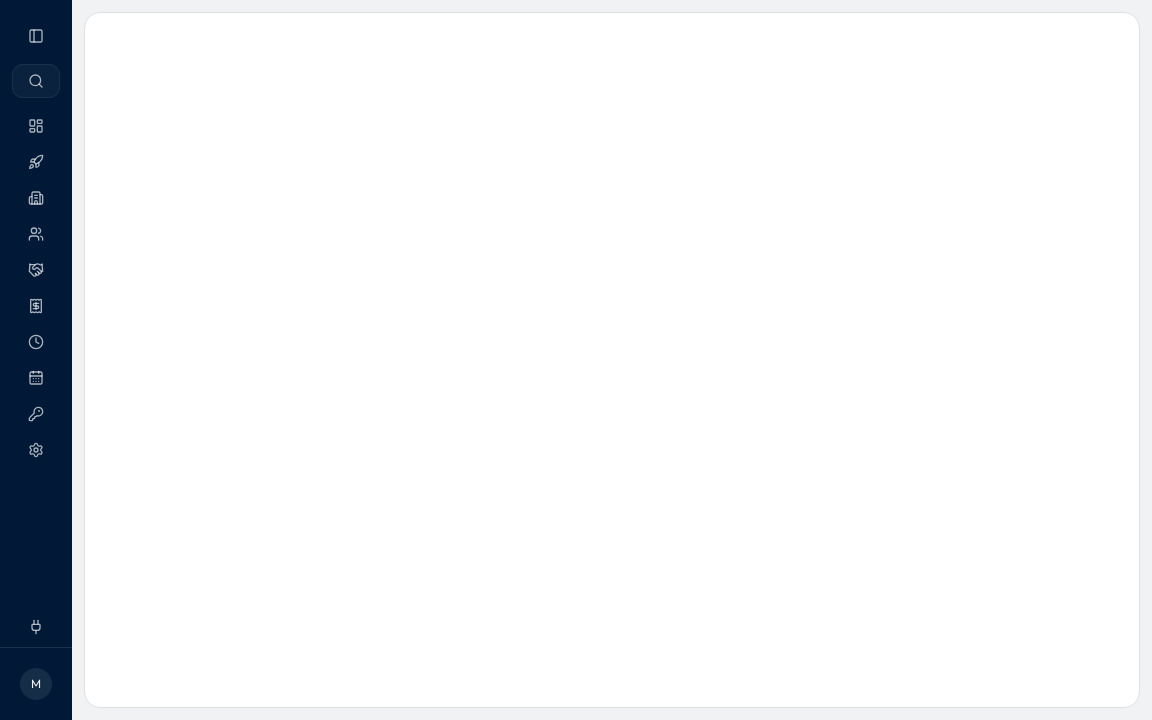
Scenario: AppShell › closes the overlay when the route changes, so it never covers the page you asked for
Click the button named "Espandi il menu" at [36, 36], box [20,20,52,52]
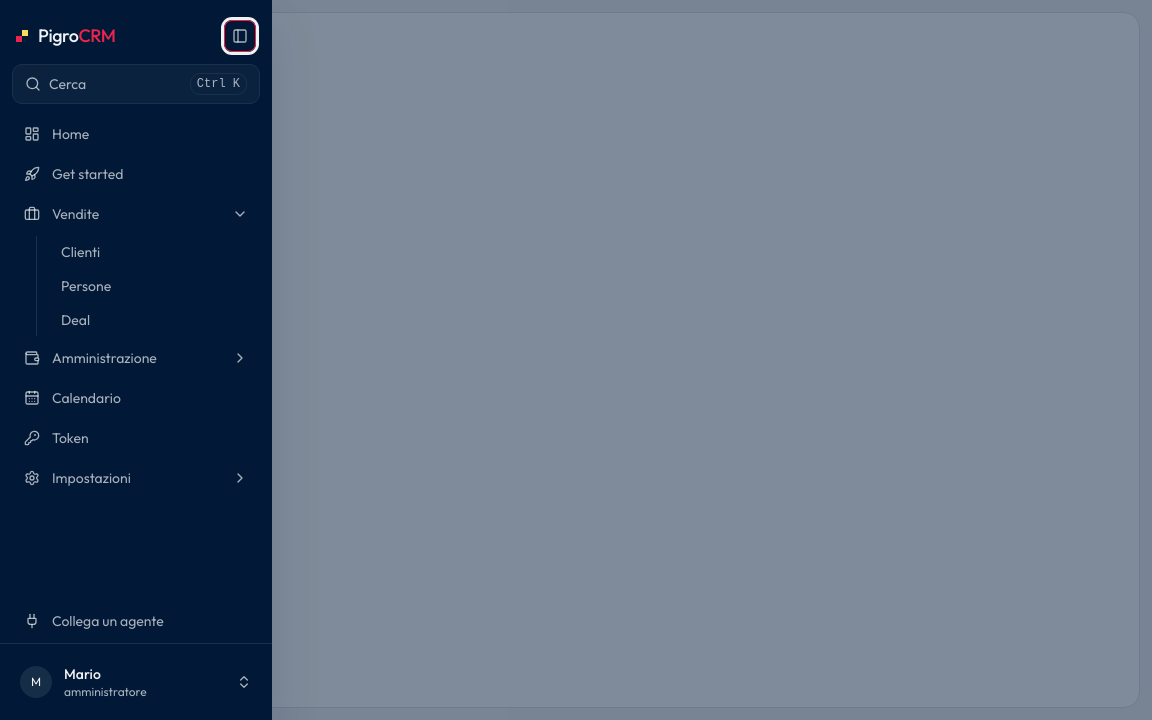
Check: the button "Vendite" is shown, box [12,196,260,232]
